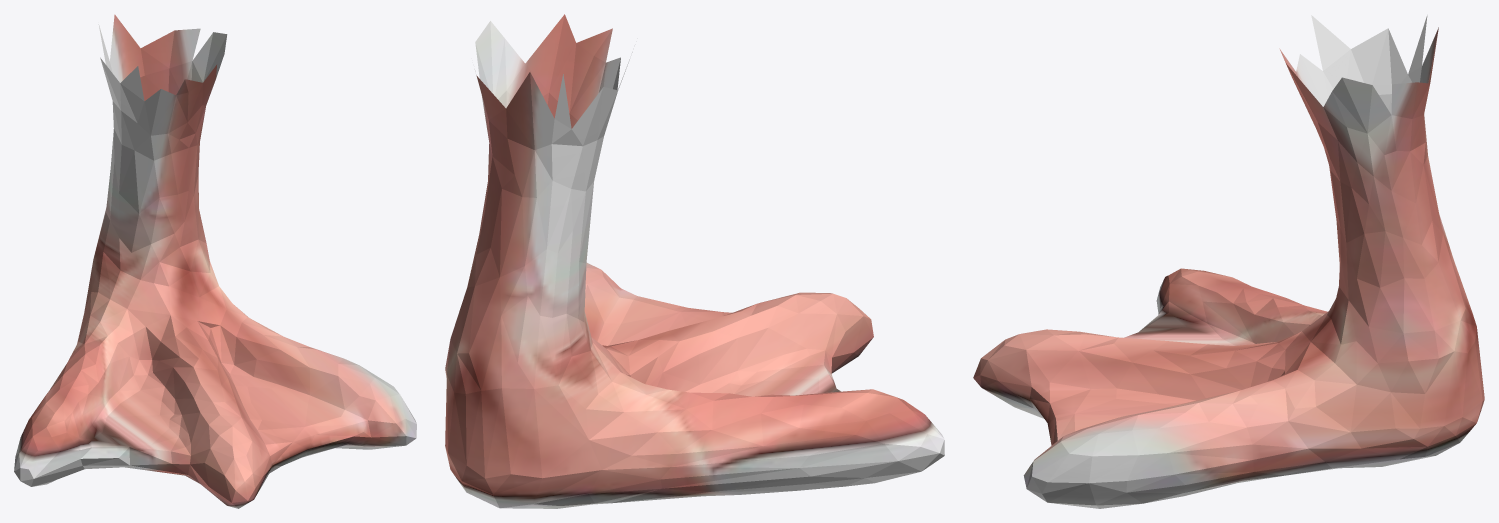
Rendered from LegL.obj.
The picture shows the model from 3 angles, left to right: view 1: azimuth 30°, elevation 25°; view 2: azimuth 150°, elevation 25°; view 3: azimuth 270°, elevation 25°; orthographic projection. The views are drawn at different scales.
Parts seen in each view (by area): view 1: shape.obj; view 2: shape.obj; view 3: shape.obj.
Part boxes in pixels (x1,y1,x2,y2): shape.obj: [14, 14, 416, 508]; shape.obj: [445, 14, 944, 508]; shape.obj: [973, 15, 1484, 508].
Bounding box in the file's own units: 0.3461 × 0.3351 × 0.3712.
Materials: 1 (1 with a texture image).
